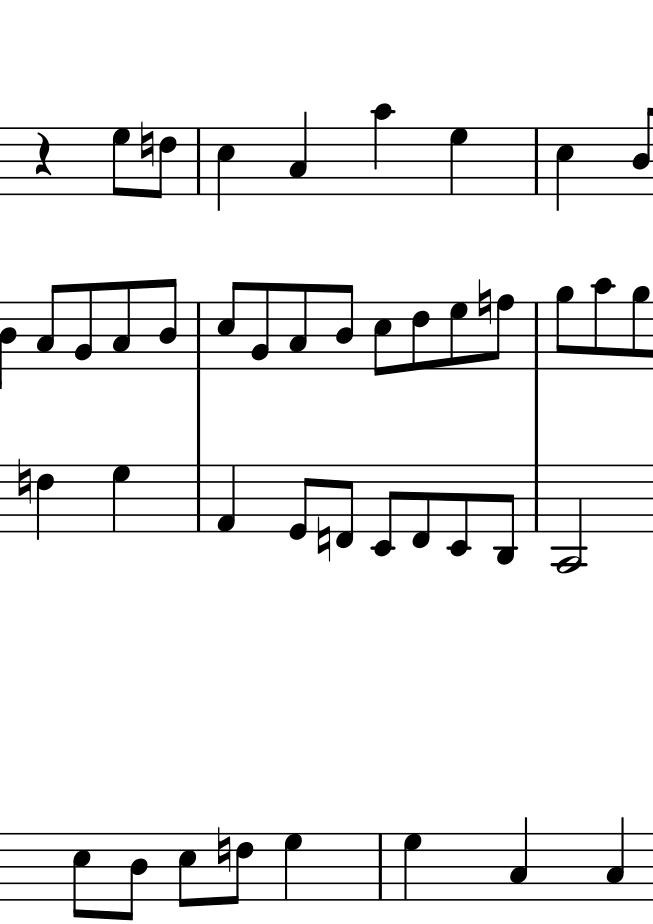2_-4: (553, 462, 585, 571)
4_1: (215, 463, 237, 534)
4_10: (371, 102, 396, 198)
4_3: (604, 815, 627, 902), (287, 110, 309, 196), (508, 816, 530, 901)
4_5: (215, 126, 237, 214), (554, 127, 575, 214)
4_6: (35, 463, 55, 541)
4_7: (447, 126, 470, 196), (401, 832, 423, 902), (283, 832, 304, 903), (110, 464, 131, 534)
8_-1: (334, 462, 356, 550), (411, 463, 432, 550)
8_-2: (369, 463, 400, 556), (445, 463, 472, 557)
8_-3: (494, 464, 517, 567)
8_0: (287, 463, 314, 542)
8_10: (593, 276, 616, 371)
8_2: (250, 282, 272, 371), (73, 282, 94, 372)
8_3: (35, 283, 63, 372), (287, 282, 310, 372), (110, 280, 132, 372)
8_4: (120, 831, 149, 923), (156, 277, 178, 372), (630, 107, 652, 197), (334, 283, 355, 371)
8_5: (214, 280, 244, 371), (70, 831, 91, 921), (176, 831, 197, 910), (371, 300, 392, 378)
8_6: (227, 833, 256, 907), (151, 127, 179, 201), (410, 301, 430, 374)
8_7: (110, 127, 131, 198), (448, 301, 469, 370)
8_8: (489, 293, 515, 371)
8_9: (554, 285, 575, 371), (630, 284, 650, 371)
Natural: (15, 456, 32, 506), (315, 514, 332, 563), (215, 825, 232, 873), (476, 277, 492, 326), (138, 119, 154, 167)
Rests4: (32, 130, 52, 177)
Single_barline: (528, 129, 545, 194), (190, 129, 207, 193), (191, 303, 207, 368), (191, 466, 207, 531), (373, 835, 389, 897), (529, 303, 544, 369), (530, 466, 542, 532)
